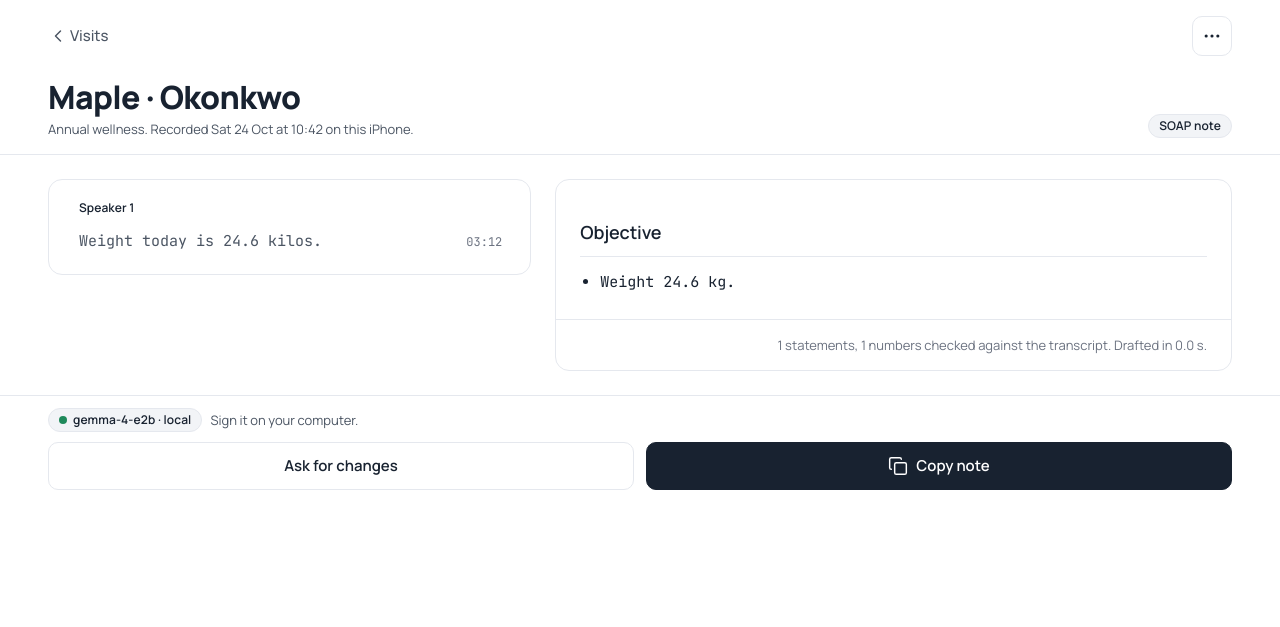
Test: Review: no signing on the iPhone during the pilot (ADR-0027) › shows where a tapped sentence was said, with Play this moment
Expected: the text "Sign it on your computer." is shown, [210, 411, 358, 429]
Click the button with class "stmt". click: (668, 282)
box: [596, 272, 739, 292]
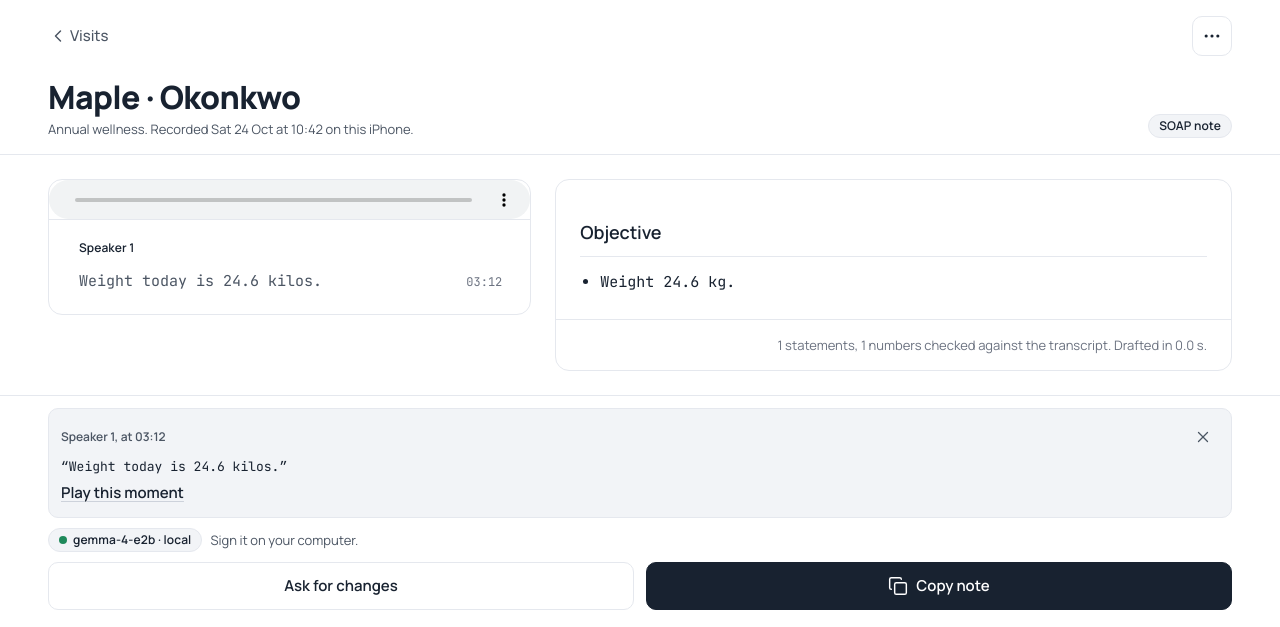
Expected: the text "Speaker 1, at 03:12" is shown, [61, 429, 166, 445]
Expected: the text "Weight today is 24.6 kilos." is shown, [69, 458, 279, 475]
